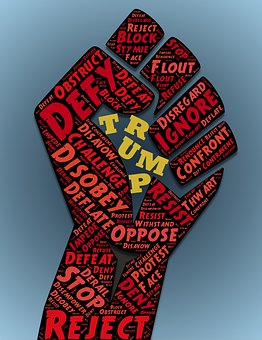fist: (62, 26, 218, 251)
